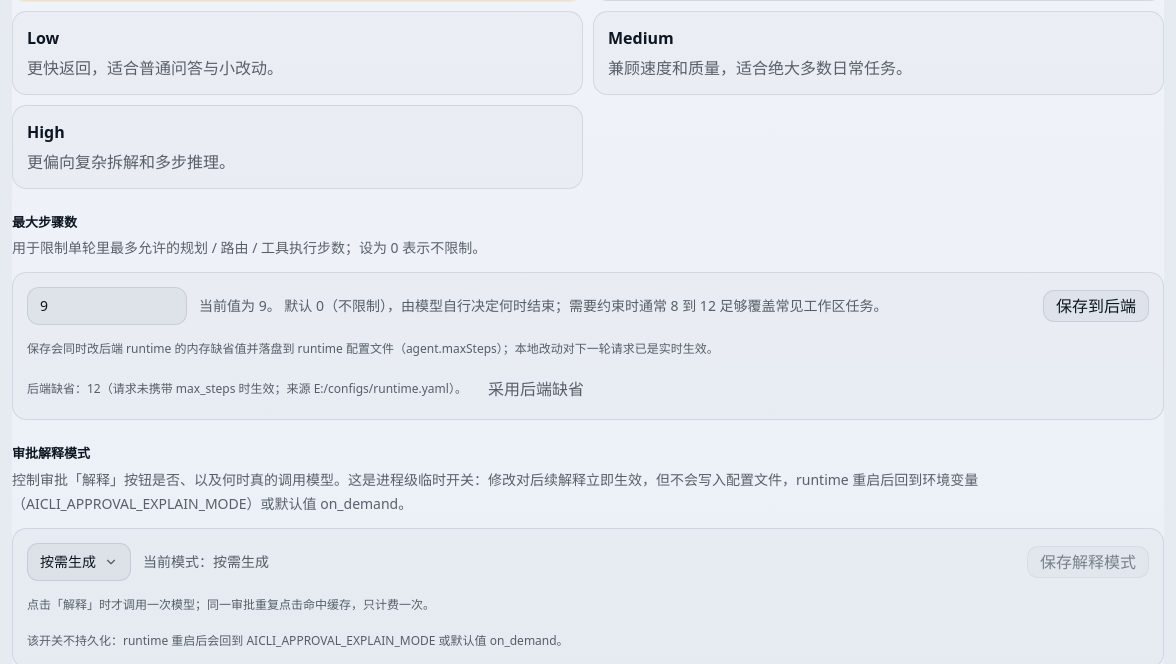
Scenario: ChatSettingsPage max steps › saves the local max steps value to the runtime config endpoint
(page scrolled)
Click the button "保存到后端": (1096, 306) [1043,290,1149,322]
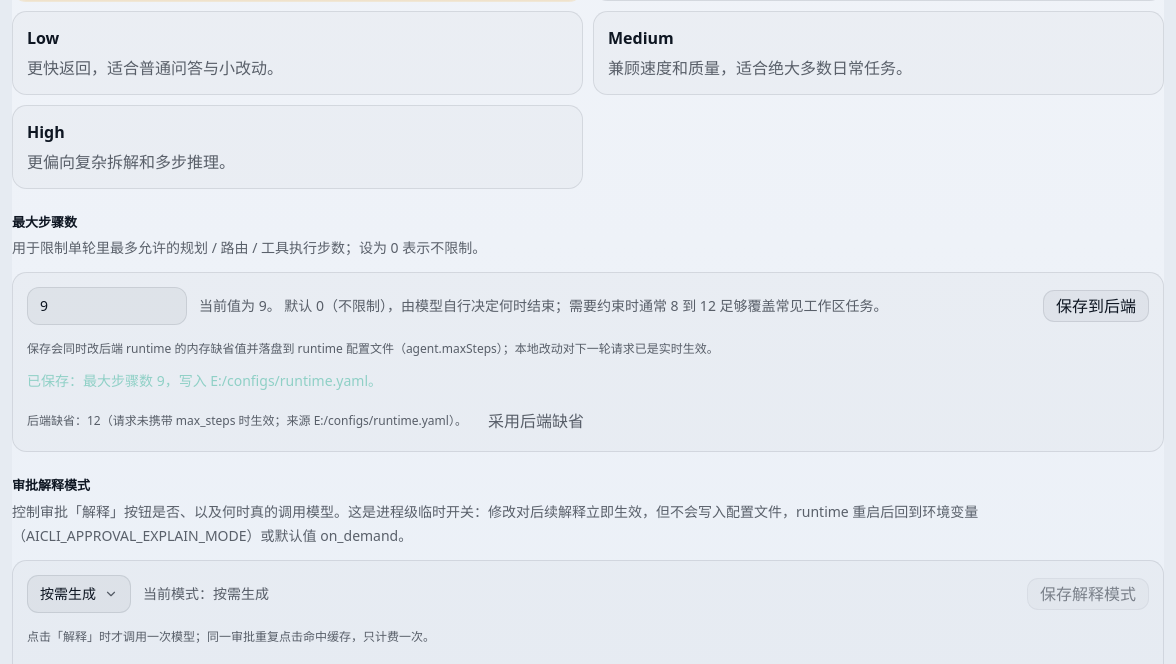
Expected: the text "E:/configs/runtime.yaml" is shown, [27,371,382,390]
Expected: the text "已保存：最大步骤数 9" is shown, [27,371,382,390]
